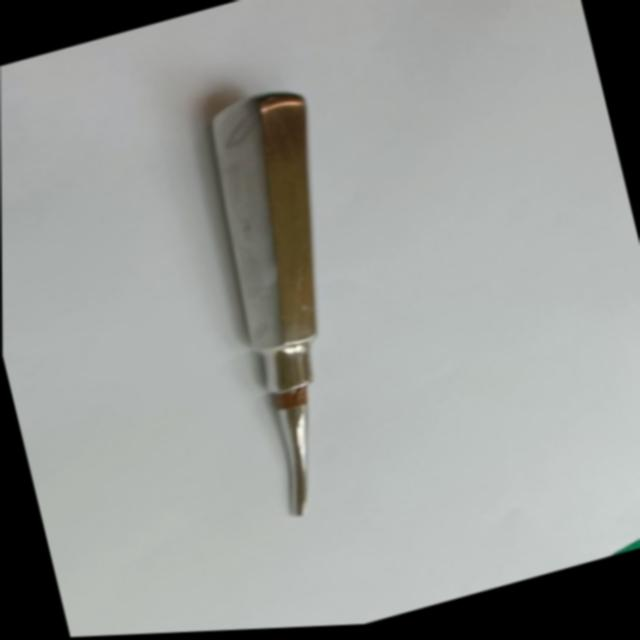Coupland1: (170, 67, 420, 530)
